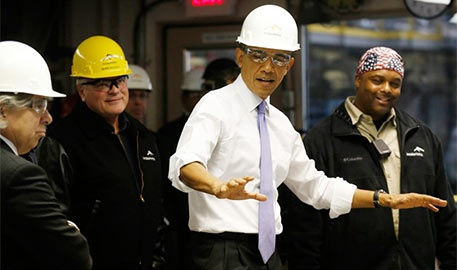none: (353, 42, 408, 111)
white: (1, 38, 55, 154), (235, 2, 301, 94), (124, 64, 153, 117)
yellow: (67, 34, 130, 116)
